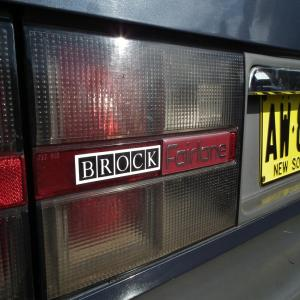Vehicle-registration-plate: (259, 97, 300, 188)
